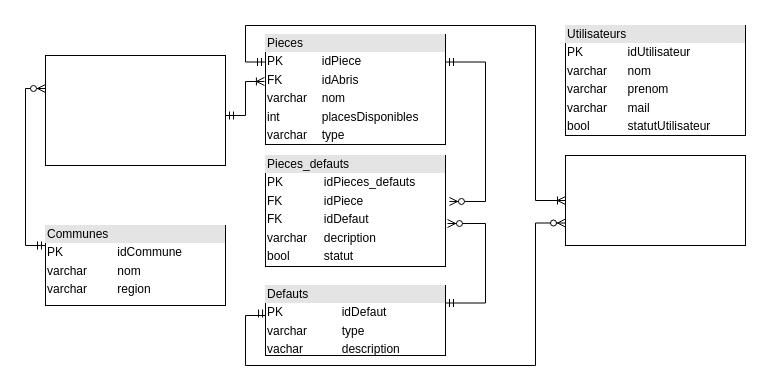
Some shapes in this 763 by 392 pixel diagram are drawn without their labels. The centre of each missing label's shape, as x and y in pixels:
"Abris PK idAbris FK fkCommune varchar nom int statutVisite varchar responsable" goes at pixel 135 110.
"Defauts_disponibles PK idDefaut FK idPieces FK idDefauts bool statut" goes at pixel 655 200.
